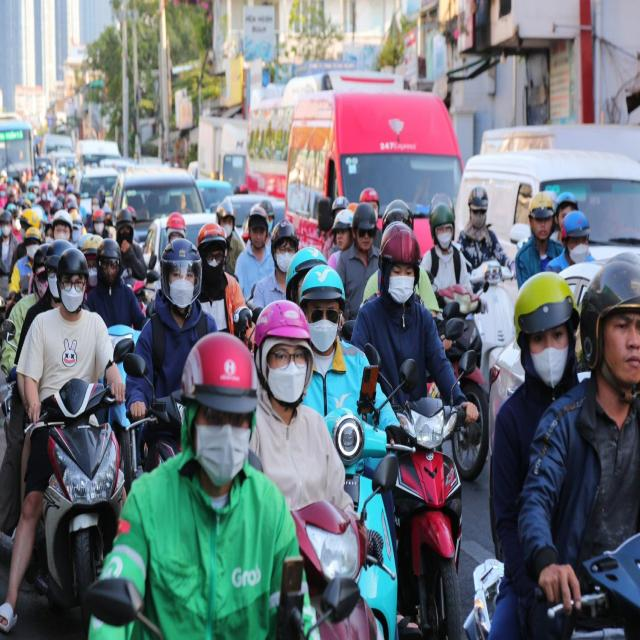helmet: (180, 332, 260, 412), (514, 272, 579, 340), (255, 300, 312, 348), (300, 264, 345, 301)
